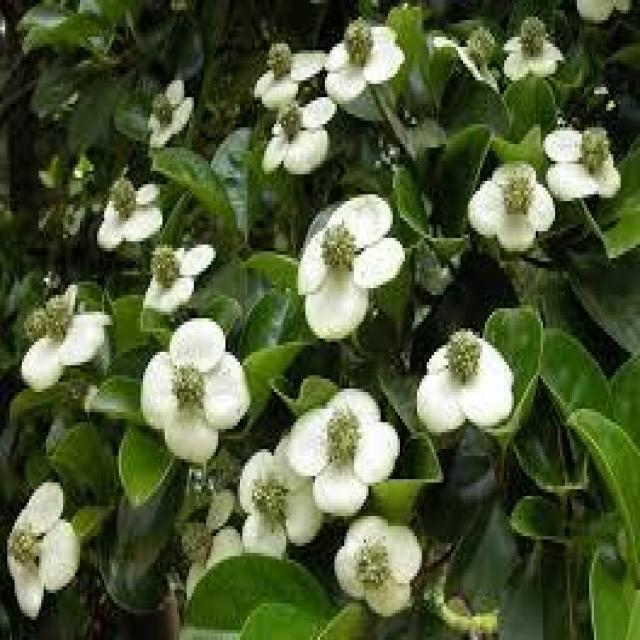organic waste: (126, 318, 252, 466), (304, 180, 401, 343), (286, 384, 400, 514), (238, 424, 322, 571), (426, 323, 518, 441), (16, 297, 112, 397), (467, 158, 556, 262), (14, 479, 76, 617), (344, 528, 424, 618), (134, 228, 222, 308), (548, 117, 623, 208), (239, 37, 336, 100), (324, 27, 406, 97), (94, 179, 174, 243), (257, 104, 337, 167), (137, 80, 200, 148), (501, 22, 566, 82)
